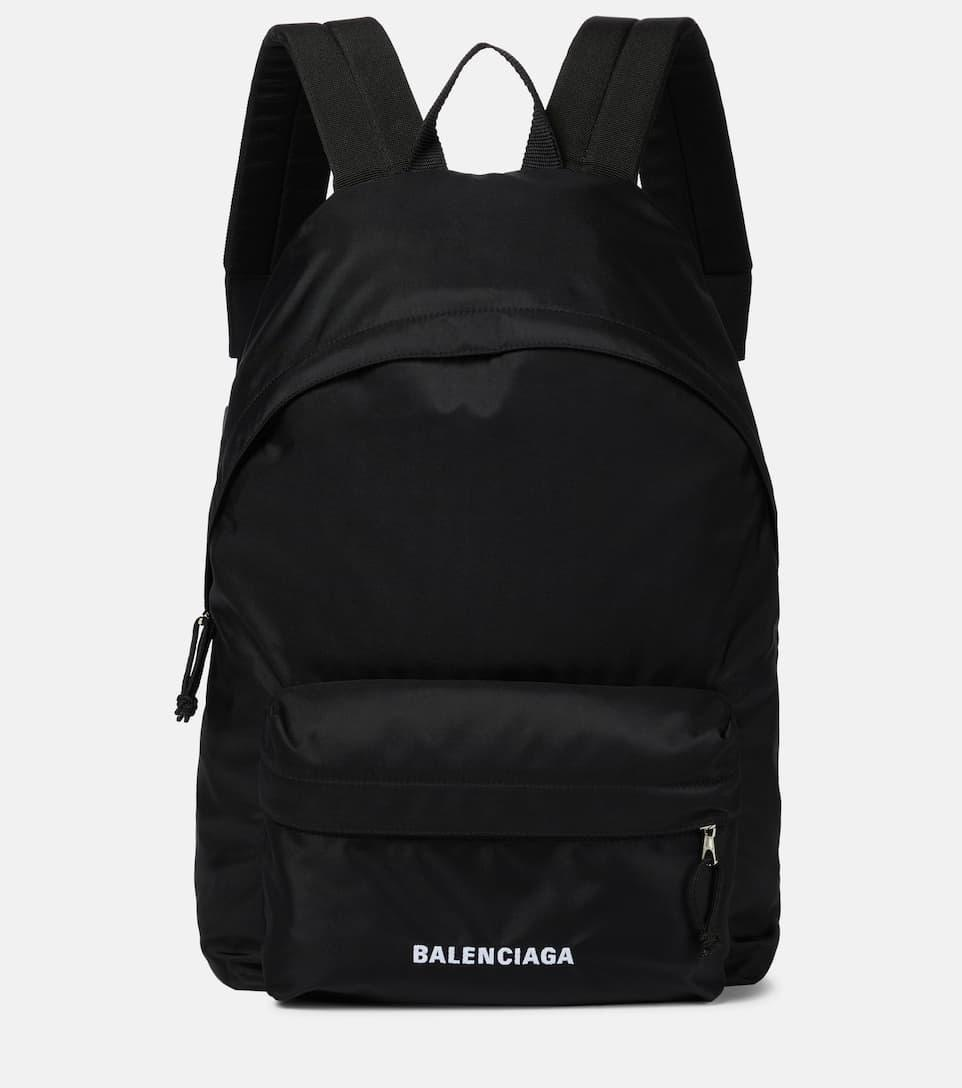BALENCIAGA: (413, 944, 574, 965)
